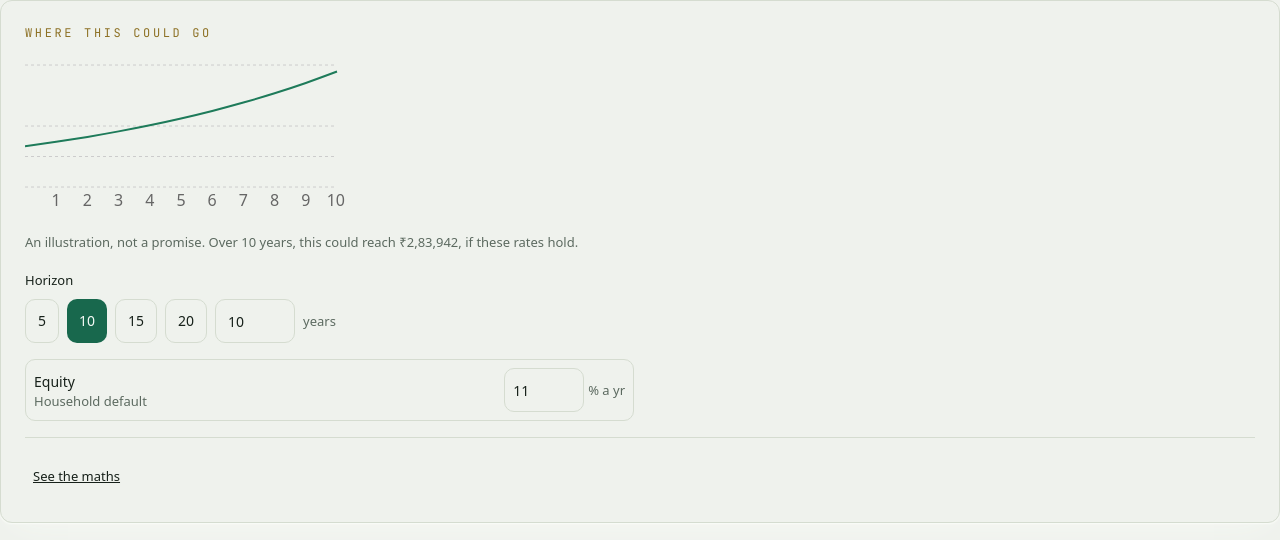
it: ProjectionPanel › horizon control (E7) › the free field wins when edited after a chip
Click the button "5" at (42, 321), box [25,299,59,343]
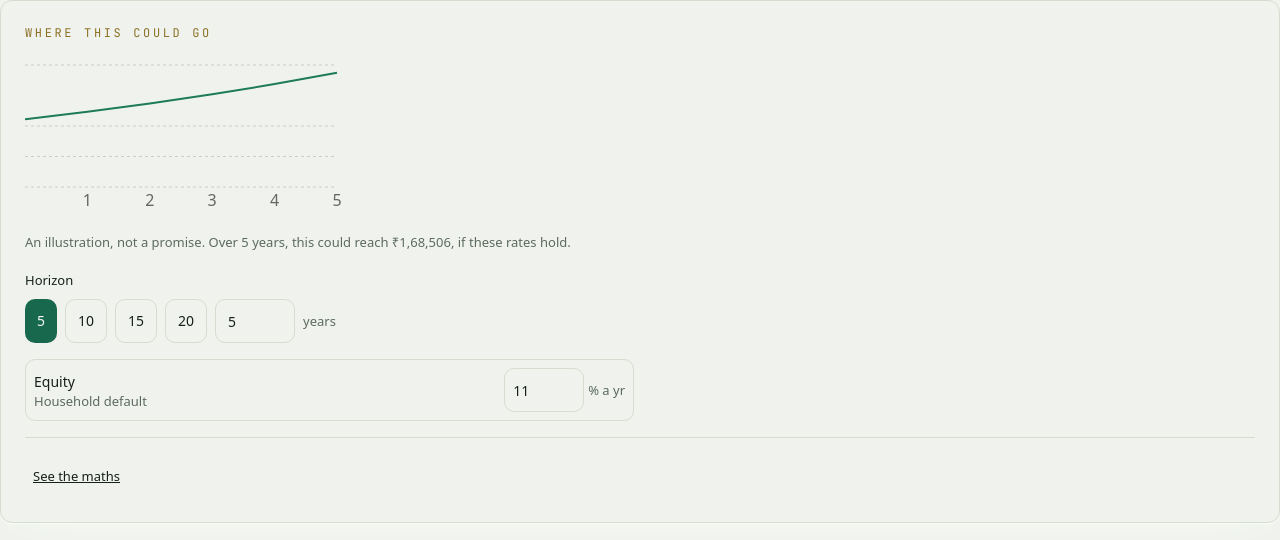
Result: the text "Over 5 years" is shown at [25,233,571,251]
Replace the text in the number field named "horizon" with "12" at (255, 321), box [215,299,295,343]
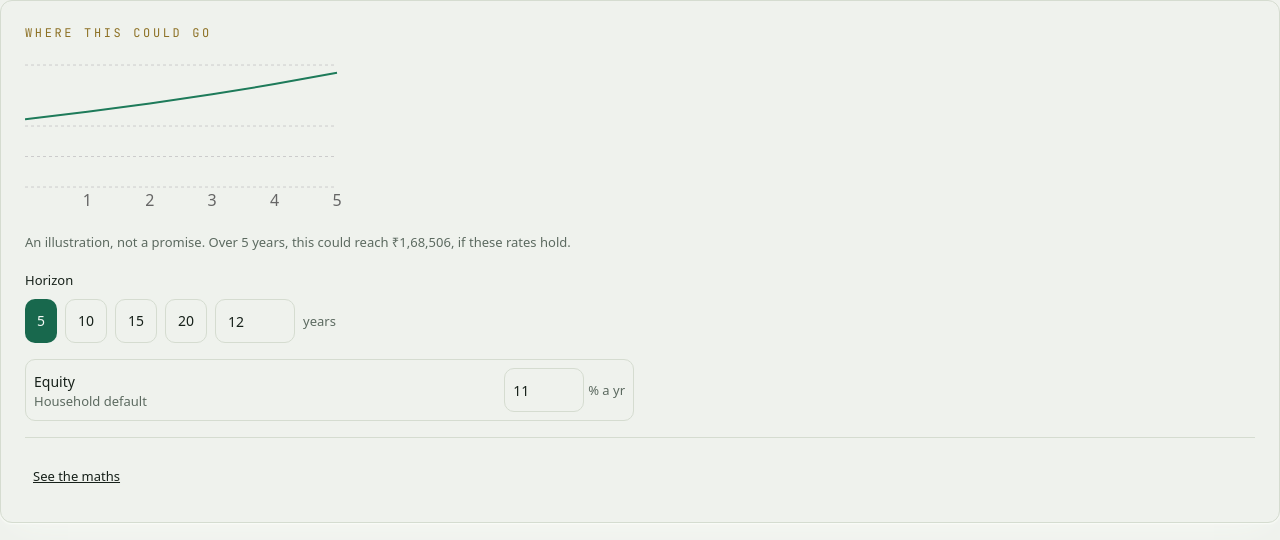
Leave the number field named "horizon", box [215,299,295,343]
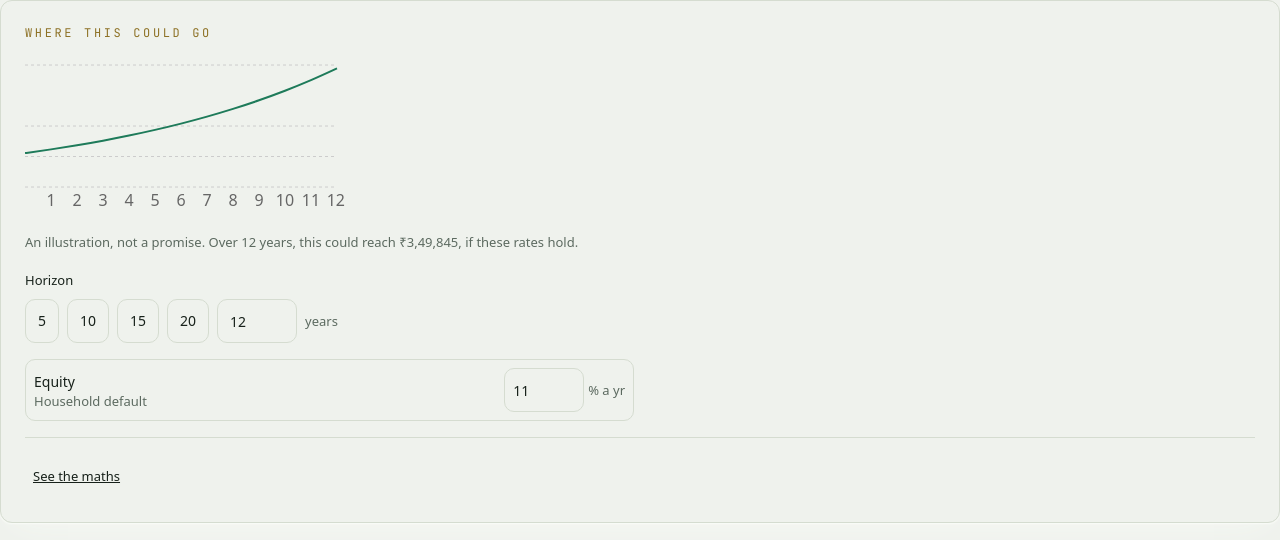
Result: the text "Over 12 years" is shown at [25,233,578,251]
